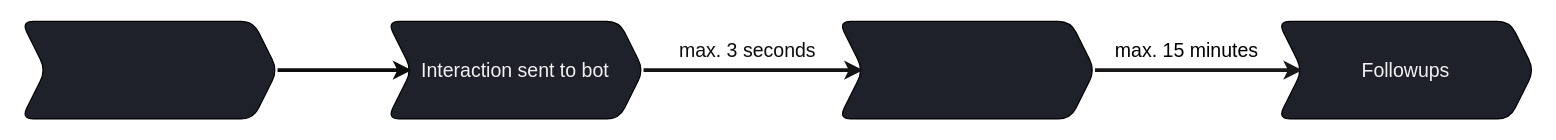
Some shapes in this 1556 by 140 pixel diagram are drawn without their labels. Each missing label, with the centre of its shape:
"Initial Response" belongs at point (966, 69).
"User Interacts" belongs at point (149, 69).
